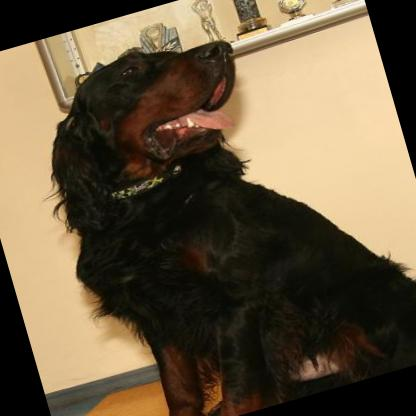Gordon_setter: (19, 0, 416, 416)
